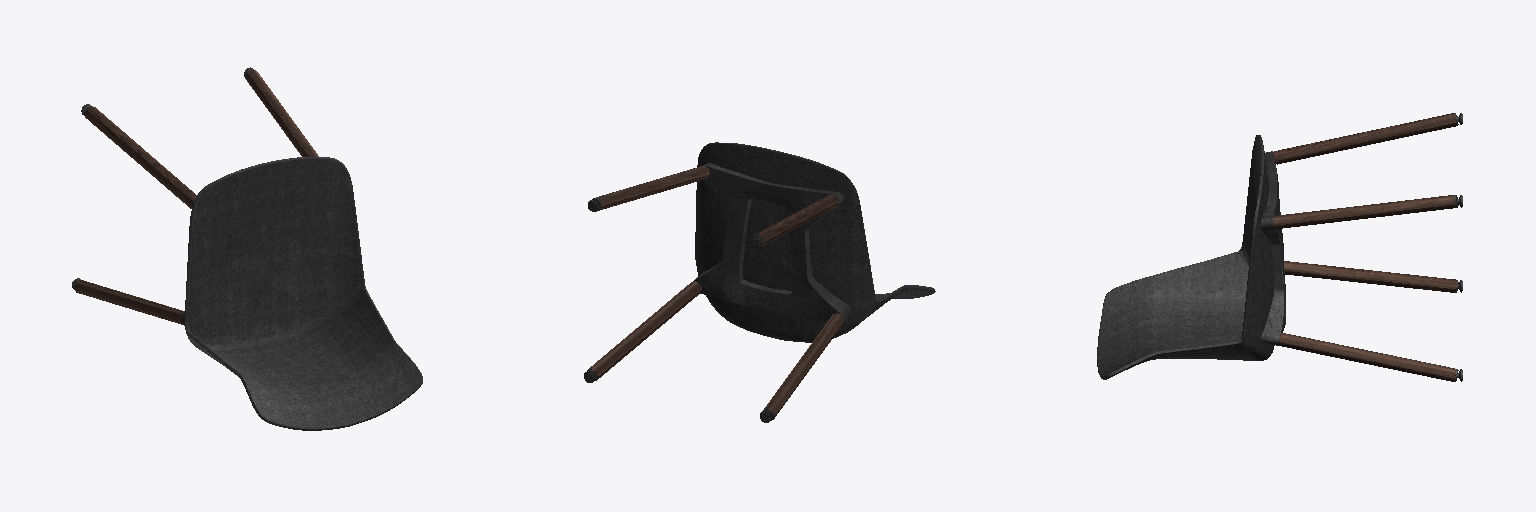
The picture shows the model from 3 angles: view 1: azimuth 30°, elevation 25°; view 2: azimuth 150°, elevation 25°; view 3: azimuth 270°, elevation 25°; orthographic projection.
Size of the model in its own units: 0.5091 by 0.5406 by 0.8547.
Materials: 1 (1 with a texture image).